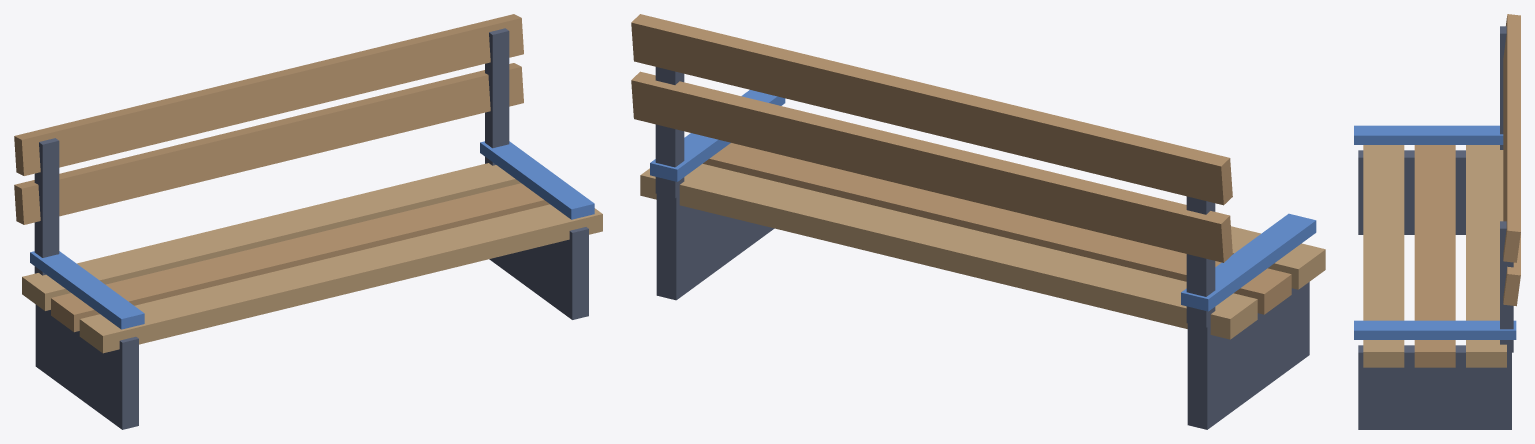
Rendered from bench.glb.
3 renders of one model, left to right at view 1: azimuth 30°, elevation 25°; view 2: azimuth 150°, elevation 25°; view 3: azimuth 270°, elevation 25°, orthographic. The views are drawn at different scales.
Bounding box in the file's own units: 3 × 1.33 × 0.9767.
